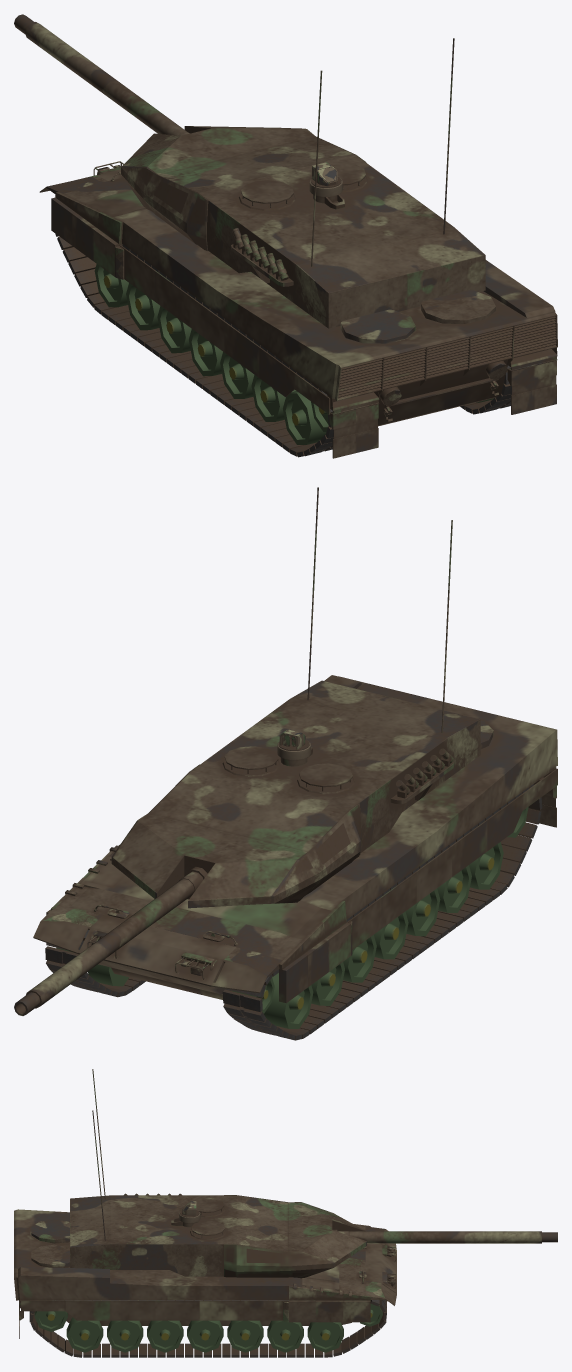
File: Leopard_2A7.fbx
The picture shows the model from 3 angles, top to bottom: view 1: azimuth 30°, elevation 25°; view 2: azimuth 150°, elevation 25°; view 3: azimuth 270°, elevation 25°; orthographic projection. The views are drawn at different scales.
Visible parts, largest first — view 1: Basis, Bovenkant, L_Rupsband, Barrel, L_Wiel_8, L_Wiel_7, L_Wiel_4, L_Wiel_3, L_Wiel_5, L_Wiel_6, L_Wiel_2, R_Rupsband; view 2: Bovenkant, Basis, L_Rupsband, Barrel, R_Rupsband, L_Wiel_2, L_Wiel_5, L_Wiel_6, L_Wiel_8, L_Wiel_7, L_Wiel_4, L_Wiel_3; view 3: Basis, Bovenkant, R_Rupsband, Barrel, R_Wiel_8, R_Wiel_6, R_Wiel_7, R_Wiel_4, R_Wiel_5, R_Wiel_3, R_Wiel_2, R_Wiel_9.
Part boxes in pixels (x1,y1,x2,y2): Basis: [39, 161, 557, 458]; Bovenkant: [121, 38, 485, 328]; L_Rupsband: [55, 233, 333, 457]; Barrel: [14, 14, 189, 135]; L_Wiel_8: [283, 391, 326, 444]; L_Wiel_7: [251, 374, 296, 421]; L_Wiel_4: [157, 306, 191, 353]; L_Wiel_3: [126, 283, 160, 330]; L_Wiel_5: [189, 329, 222, 376]; L_Wiel_6: [220, 352, 254, 398]; L_Wiel_2: [94, 264, 128, 307]; R_Rupsband: [460, 365, 511, 414]; Bovenkant: [111, 487, 480, 908]; Basis: [33, 675, 557, 1003]; L_Rupsband: [222, 784, 542, 1040]; Barrel: [14, 867, 207, 1015]; R_Rupsband: [45, 930, 145, 997]; L_Wiel_2: [264, 973, 313, 1028]; L_Wiel_5: [374, 911, 408, 959]; L_Wiel_6: [405, 888, 440, 936]; L_Wiel_8: [469, 842, 503, 889]; L_Wiel_7: [437, 865, 471, 912]; L_Wiel_4: [343, 935, 376, 982]; L_Wiel_3: [311, 962, 344, 1005]; Basis: [14, 1209, 396, 1338]; Bovenkant: [70, 1069, 366, 1278]; R_Rupsband: [29, 1300, 386, 1357]; Barrel: [332, 1229, 557, 1243]; R_Wiel_8: [66, 1317, 103, 1352]; R_Wiel_6: [147, 1320, 183, 1352]; R_Wiel_7: [107, 1320, 143, 1352]; R_Wiel_4: [227, 1320, 263, 1352]; R_Wiel_5: [187, 1320, 223, 1352]; R_Wiel_3: [267, 1320, 303, 1352]; R_Wiel_2: [307, 1322, 343, 1352]; R_Wiel_9: [34, 1300, 67, 1331].
Size of the model in its own units: 360 by 533 by 1118.
